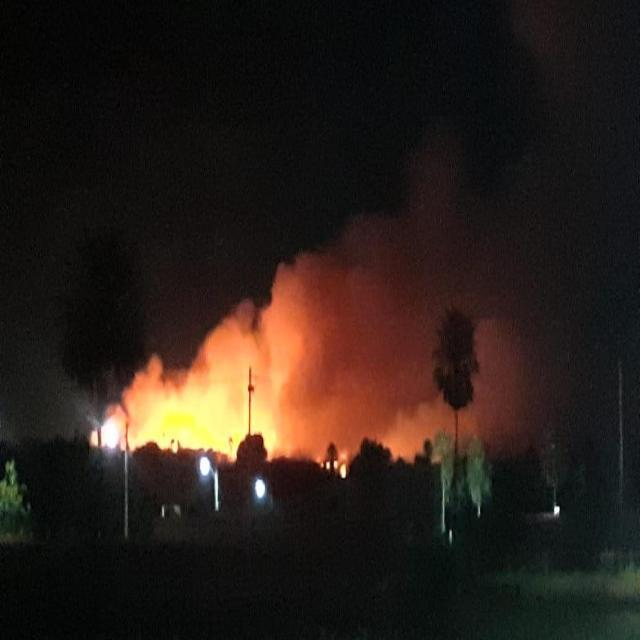Fire: (156, 416, 233, 459)
Smoke: (290, 318, 408, 399)
